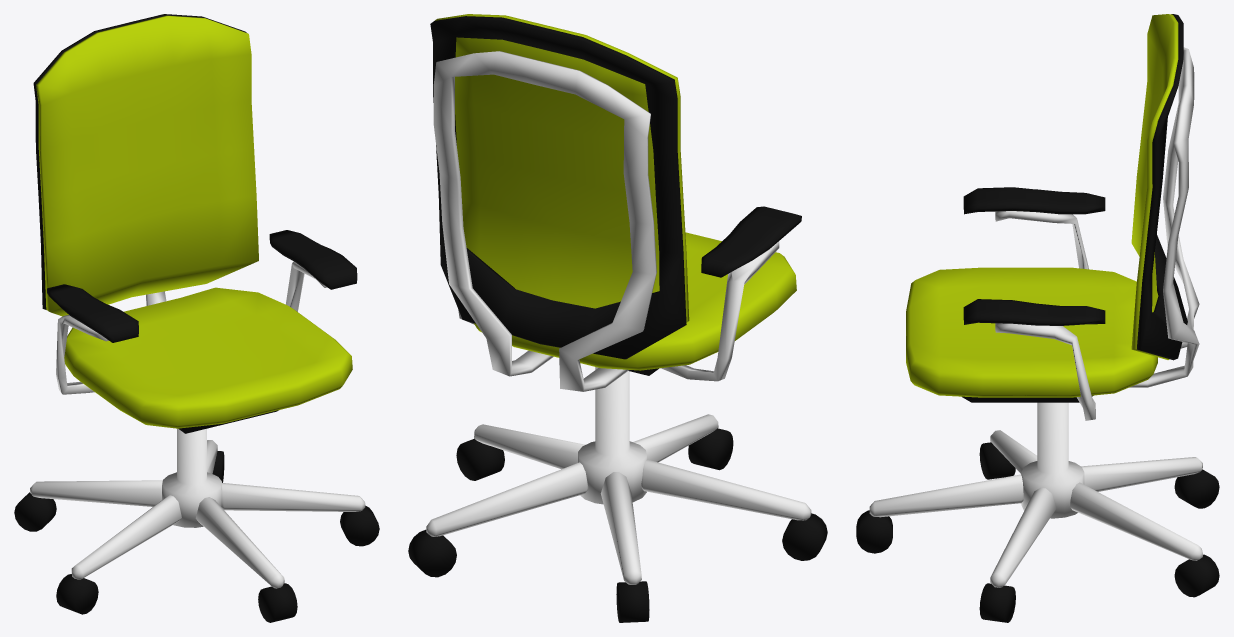
File: chair.glb
3 renders of one model, left to right at view 1: azimuth 30°, elevation 25°; view 2: azimuth 150°, elevation 25°; view 3: azimuth 270°, elevation 25°, orthographic. The views are drawn at different scales.
Parts seen in each view (by area): view 1: __X_PRIMARY__backrest, __X_PRIMARY__cushion, Leg (×4), __X_SECONDARY__armrest, Caster (×4), Cylinder, Grid.004, __X_SECONDARY__frame; view 2: __X_PRIMARY__backrest, Grid.002, __X_SECONDARY__frame, Leg (×5), __X_PRIMARY__cushion, Caster (×5), Cylinder, __X_SECONDARY__armrest, Grid.004; view 3: __X_PRIMARY__cushion, Leg (×5), Grid.002, __X_SECONDARY__armrest, Caster (×5), __X_PRIMARY__backrest, __X_SECONDARY__frame, Cylinder, Grid.004, Cube.
Boxes of the visible parts, x1,y1,x2,y2 form: __X_PRIMARY__backrest: [36, 15, 258, 316]; __X_PRIMARY__cushion: [64, 287, 352, 428]; Leg (×4): [30, 480, 365, 588]; __X_SECONDARY__armrest: [47, 230, 357, 342]; Caster (×4): [14, 492, 379, 622]; Cylinder: [162, 428, 221, 527]; Grid.004: [56, 261, 326, 394]; __X_SECONDARY__frame: [33, 14, 246, 309]; __X_PRIMARY__backrest: [434, 14, 689, 322]; Grid.002: [433, 51, 656, 391]; __X_SECONDARY__frame: [430, 16, 686, 359]; Leg (×5): [426, 414, 811, 584]; __X_PRIMARY__cushion: [474, 232, 796, 370]; Caster (×5): [408, 428, 827, 622]; Cylinder: [578, 367, 646, 504]; __X_SECONDARY__armrest: [701, 206, 801, 277]; Grid.004: [458, 241, 779, 381]; __X_PRIMARY__cushion: [906, 267, 1157, 397]; Leg (×5): [869, 430, 1202, 587]; Grid.002: [1129, 47, 1199, 387]; __X_SECONDARY__armrest: [963, 187, 1105, 325]; Caster (×5): [856, 442, 1219, 622]; __X_PRIMARY__backrest: [1131, 14, 1178, 359]; __X_SECONDARY__frame: [1137, 14, 1187, 360]; Cylinder: [1021, 402, 1084, 518]; Grid.004: [995, 211, 1095, 420]; Cube: [962, 395, 1093, 402].
Size of what is drawn, in the model's own units: 0.7287 by 1.07 by 0.6931.
